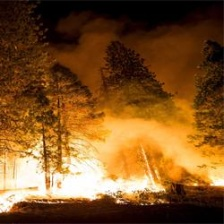fire: (1, 120, 223, 218)
